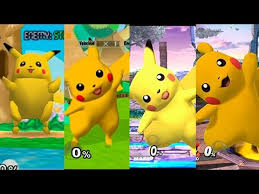pikachu: (196, 35, 258, 164), (129, 37, 197, 149), (65, 38, 130, 153), (1, 41, 64, 139)
